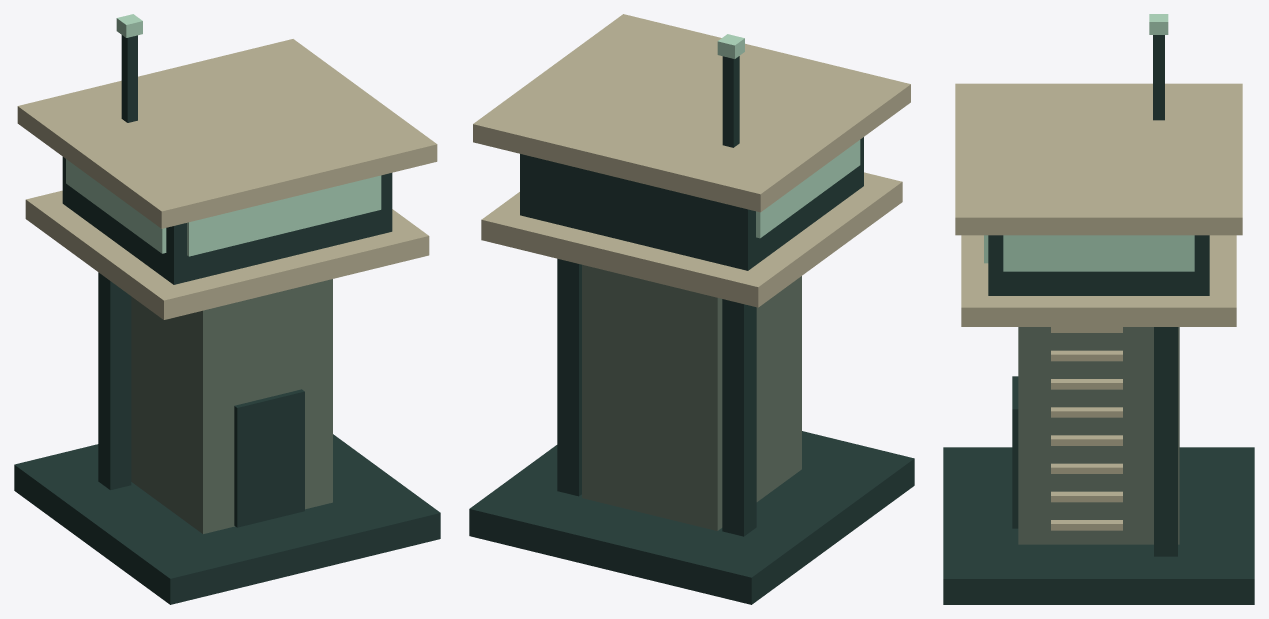
Rendered from tower-intact.glb.
3 views of the same model, side by side, from view 1: azimuth 30°, elevation 25°; view 2: azimuth 150°, elevation 25°; view 3: azimuth 270°, elevation 25° (orthographic). The views are drawn at different scales.
Parts seen in each view (by area): view 1: tower-intact; view 2: tower-intact; view 3: tower-intact.
Part boxes in pixels (x1=…): tower-intact: x1=14, y1=14, x2=440, y2=604; tower-intact: x1=469, y1=14, x2=914, y2=604; tower-intact: x1=943, y1=14, x2=1254, y2=604.
Bounding box in the file's own units: 2.65 × 4.5 × 2.6.
